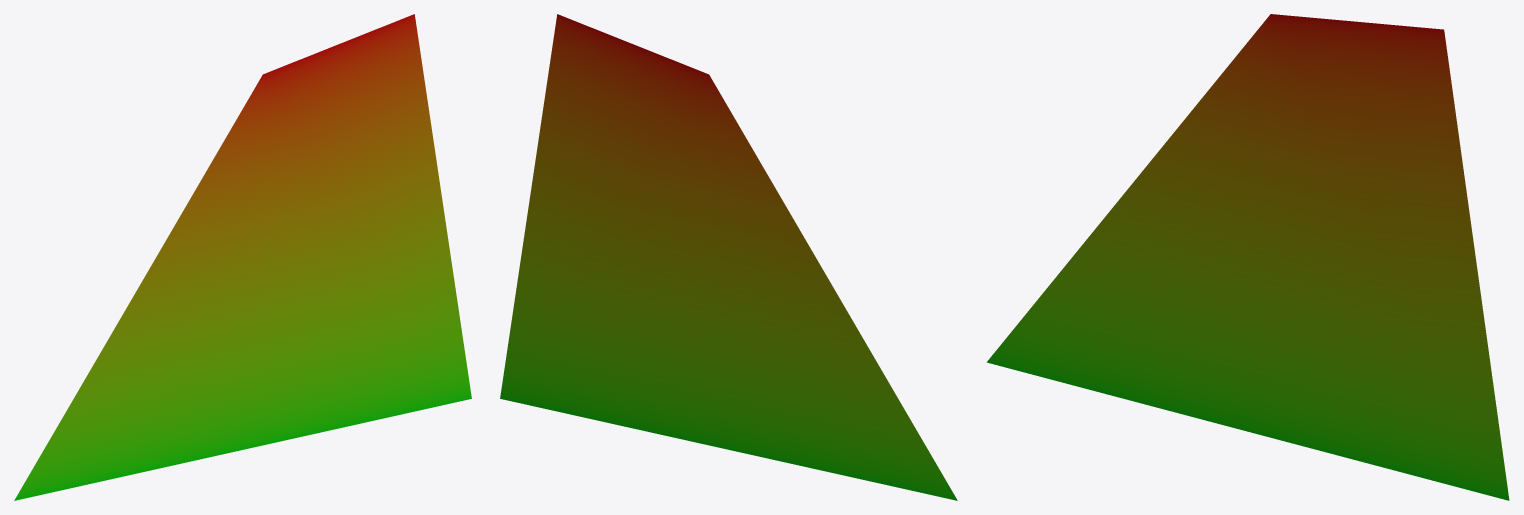
The model's file is Ribwort Plantain_LOD4_Var7_tfbnacvr.fbx.
The picture shows the model from 3 angles, left to right: view 1: azimuth 30°, elevation 25°; view 2: azimuth 150°, elevation 25°; view 3: azimuth 330°, elevation 25°; orthographic projection. The views are drawn at different scales.
Parts seen in each view (by area): view 1: _4d6a_Var7_LOD4; view 2: _4d6a_Var7_LOD4; view 3: _4d6a_Var7_LOD4.
Boxes of the visible parts, box(x1,y1,x2,y2) form: _4d6a_Var7_LOD4: box(14, 14, 471, 500); _4d6a_Var7_LOD4: box(500, 14, 957, 500); _4d6a_Var7_LOD4: box(986, 14, 1509, 500).
Size of the model in its own units: 39.54 by 32.9 by 3.81e-06.
